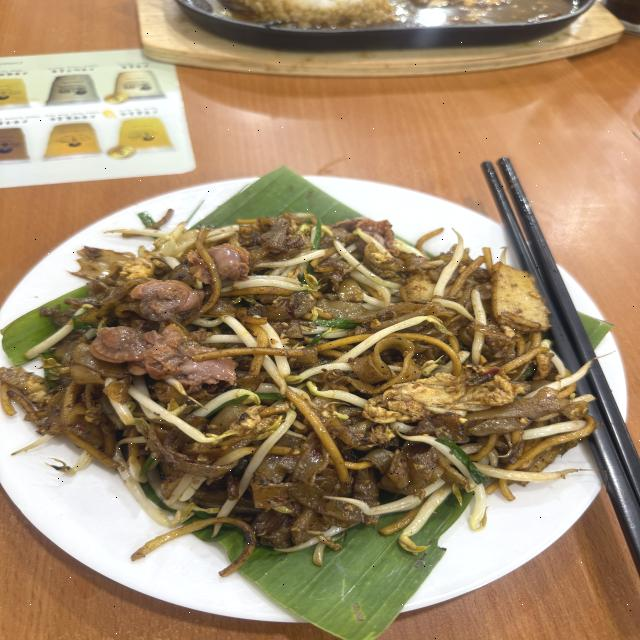Char Kway Teow: (21, 160, 617, 597)
